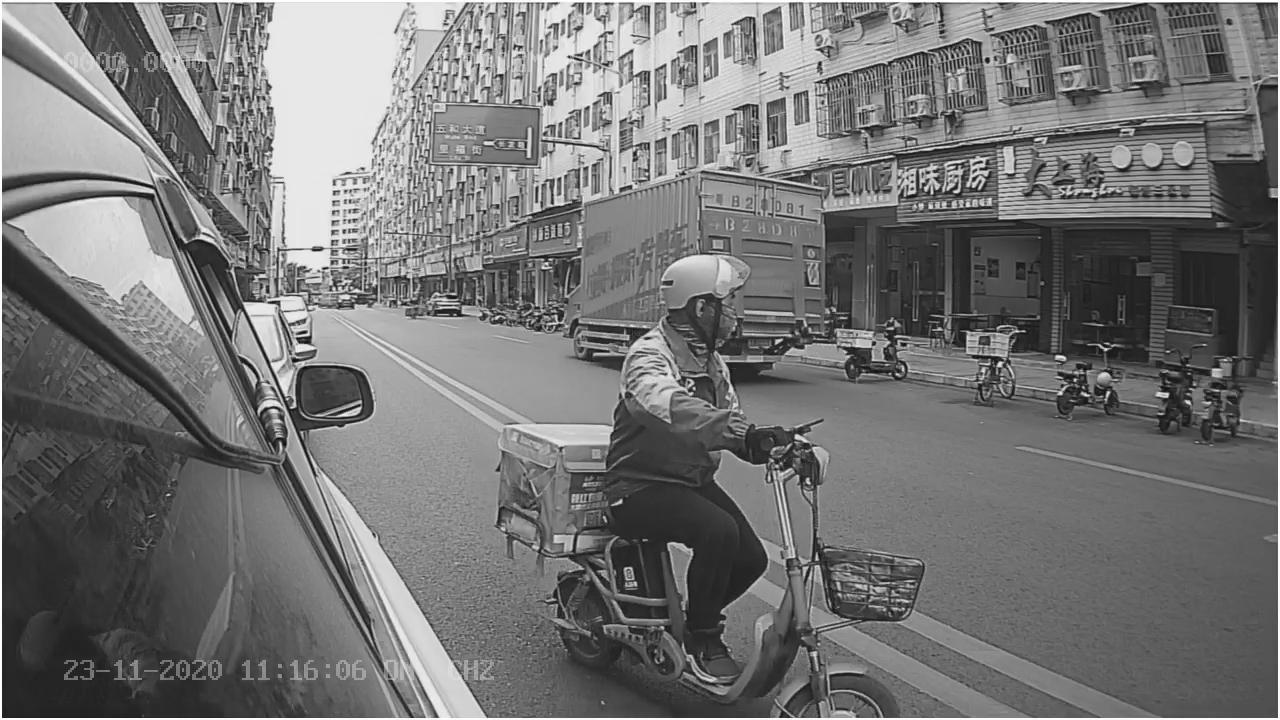person: (605, 247, 760, 431)
